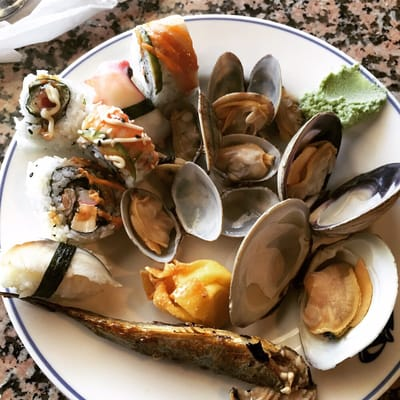curry: (298, 65, 389, 128)
salad: (310, 163, 400, 235), (171, 161, 223, 242)
sushi: (0, 13, 395, 327)
